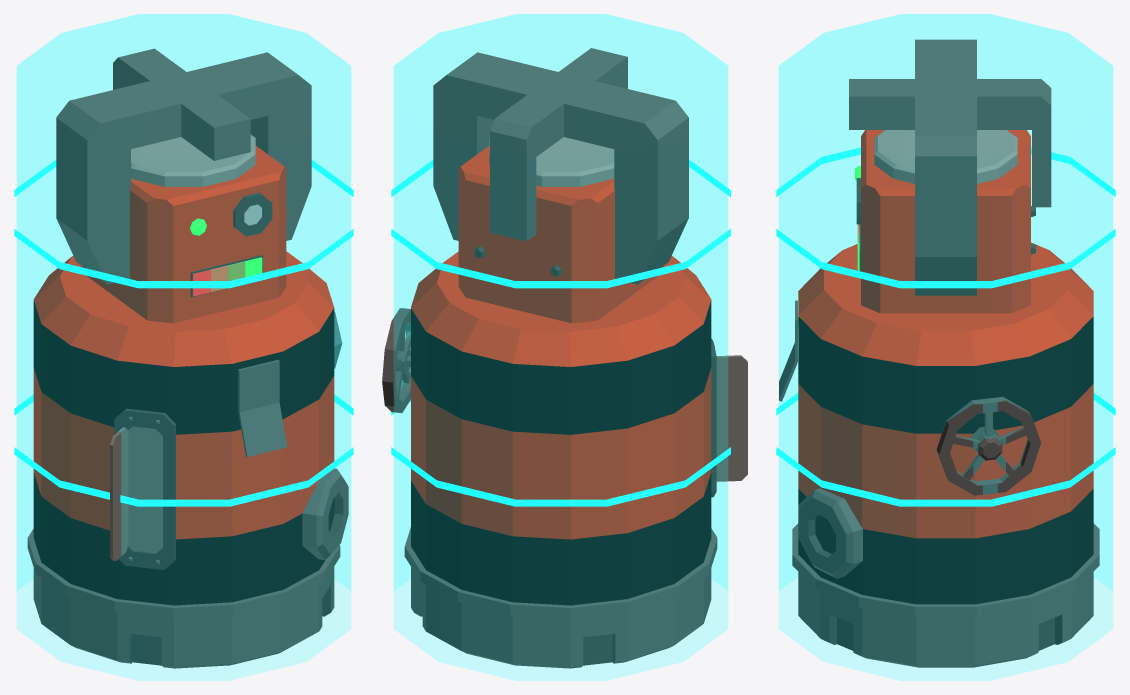
File: canister_hazard.glb
3 renders of one model, left to right at view 1: azimuth 30°, elevation 25°; view 2: azimuth 150°, elevation 25°; view 3: azimuth 270°, elevation 25°, orthographic.
Visible parts, largest first — view 1: Canister_Shield, Canister_Body, Canister_ShieldBands, Canister_TankDoor, Canister_TankDoorOpen, Canister_CellHatchOpen, Canister_CellHatch; view 2: Canister_Shield, Canister_Body, Canister_ShieldBands, Canister_TankDoorOpen, Canister_ValveWheel; view 3: Canister_Shield, Canister_Body, Canister_ShieldBands, Canister_ValveWheel.
Part boxes in pixels (<box>): Canister_Shield: <box>17,14,350,680</box>; Canister_Body: <box>27,48,348,668</box>; Canister_ShieldBands: <box>14,160,353,506</box>; Canister_TankDoor: <box>128,426,162,553</box>; Canister_TankDoorOpen: <box>110,427,128,561</box>; Canister_CellHatchOpen: <box>238,402,287,456</box>; Canister_CellHatch: <box>238,360,279,412</box>; Canister_Shield: <box>394,14,727,680</box>; Canister_Body: <box>404,48,717,668</box>; Canister_ShieldBands: <box>391,160,730,506</box>; Canister_TankDoorOpen: <box>716,355,747,481</box>; Canister_ValveWheel: <box>382,308,410,412</box>; Canister_Shield: <box>779,14,1112,680</box>; Canister_Body: <box>792,39,1099,667</box>; Canister_ShieldBands: <box>776,147,1115,506</box>; Canister_ValveWheel: <box>936,397,1040,495</box>.
Size of the model in its own units: 0.5166 by 0.8887 by 0.5028.
